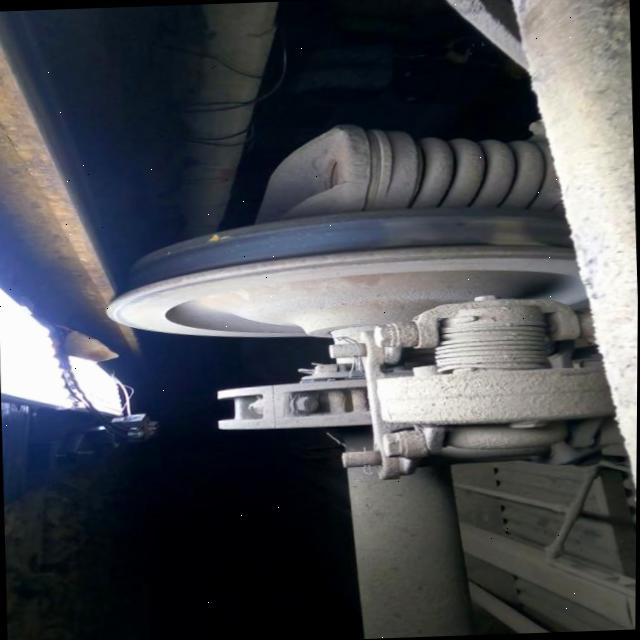Cracks-Scratches: (206, 234, 232, 243)
Shelling: (375, 215, 552, 247)
Wheel: (106, 208, 585, 337)
